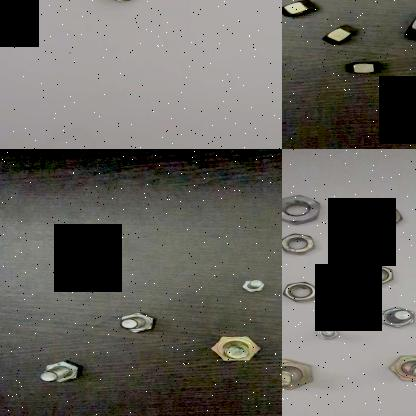Bolts: (197, 329, 262, 369), (282, 355, 320, 397), (32, 358, 84, 385), (366, 304, 416, 332), (110, 309, 164, 333), (383, 348, 416, 386), (236, 272, 270, 295), (310, 324, 344, 344)
NUTS: (315, 18, 373, 50), (282, 190, 326, 228), (364, 200, 414, 232), (348, 260, 396, 286), (282, 230, 320, 258), (282, 278, 324, 302), (395, 1, 416, 46), (348, 58, 392, 78), (282, 0, 322, 19)
